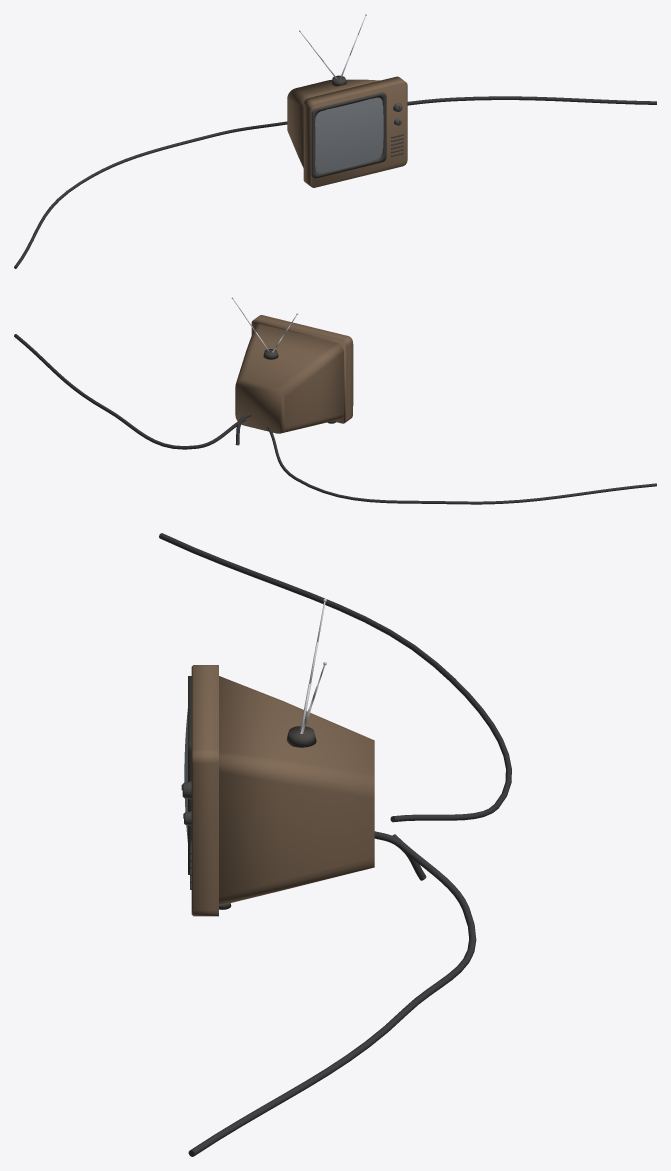
Rendered from title_tv.glb.
3 renders of one model, top to bottom at view 1: azimuth 30°, elevation 25°; view 2: azimuth 150°, elevation 25°; view 3: azimuth 270°, elevation 25°, orthographic. The views are drawn at different scales.
Parts seen in each view (by area): view 1: TvBody, TvScreen, CableB, CableA; view 2: TvBody, CableB, CableA; view 3: TvBody, CableB, CableA.
Boxes of the visible parts, x1,y1,x2,y2 form: TvBody: [287, 14, 407, 187]; TvScreen: [315, 97, 383, 172]; CableB: [14, 121, 287, 268]; CableA: [407, 96, 656, 105]; TvBody: [231, 297, 353, 445]; CableB: [267, 426, 656, 504]; CableA: [14, 334, 245, 449]; TvBody: [181, 598, 426, 916]; CableB: [159, 533, 511, 822]; CableA: [188, 834, 476, 1156].
Size of the model in its own units: 4.81 by 0.9436 by 1.16.
